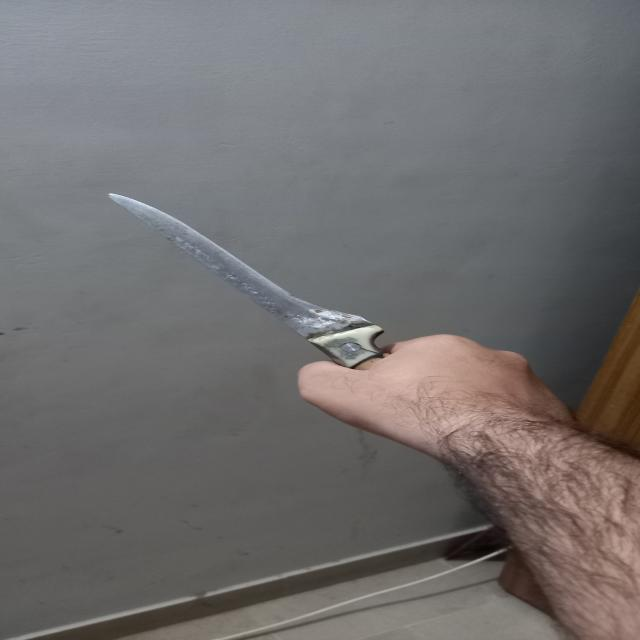Knife: (102, 178, 399, 370)
